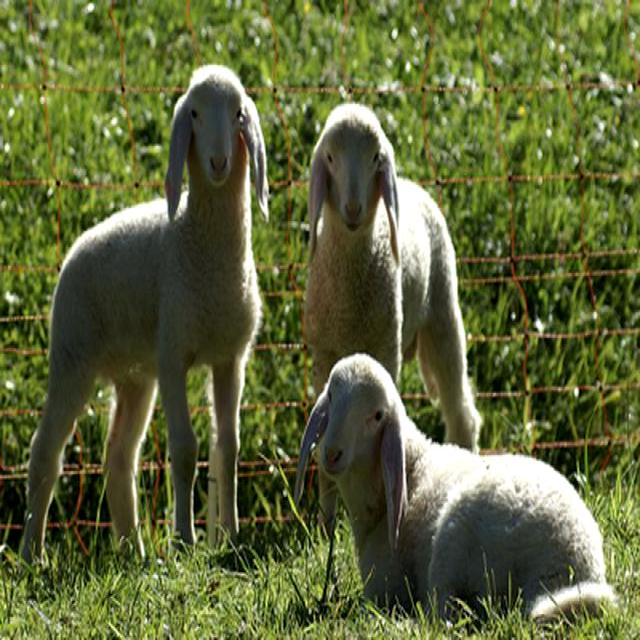sheep: (19, 66, 272, 558), (290, 358, 618, 627), (305, 104, 479, 449)
